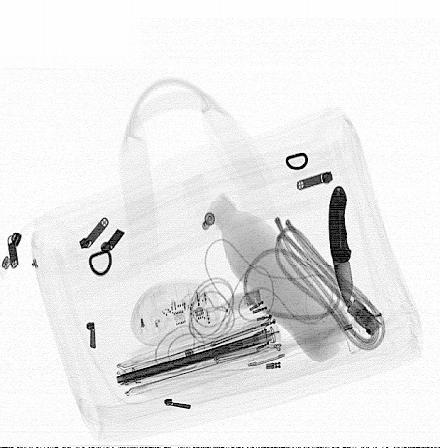Knife: (328, 185, 353, 307)
